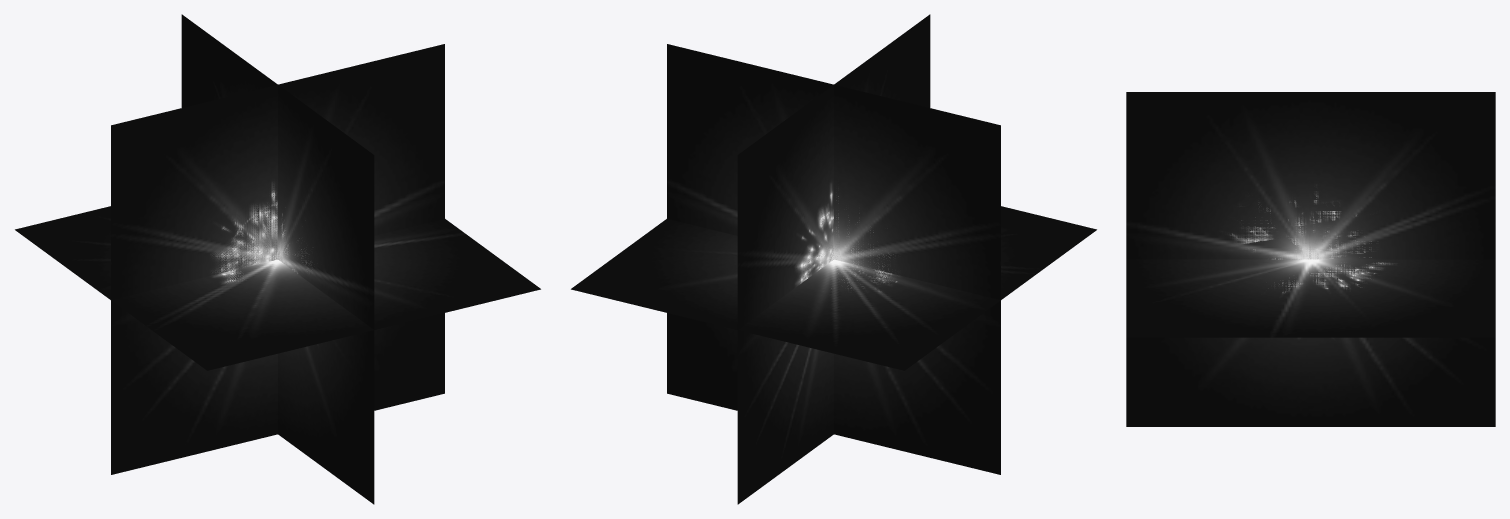
File: si_eoa_4110.glb
3 views of the same model, side by side, from view 1: azimuth 30°, elevation 25°; view 2: azimuth 150°, elevation 25°; view 3: azimuth 270°, elevation 25° (orthographic). The views are drawn at different scales.
Visible parts, largest first — view 1: layer_00_si_est_0000, layer_02_si_est_0201, layer_04_si_est_0403; view 2: layer_00_si_est_0000, layer_02_si_est_0201; view 3: layer_00_si_est_0000, layer_02_si_est_0201.
Boxes of the visible parts, left/top/right/bottom form: layer_00_si_est_0000: left=15, top=14, right=540, bottom=504; layer_02_si_est_0201: left=210, top=180, right=310, bottom=284; layer_04_si_est_0403: left=242, top=207, right=277, bottom=267; layer_00_si_est_0000: left=571, top=14, right=1096, bottom=504; layer_02_si_est_0201: left=794, top=180, right=905, bottom=294; layer_00_si_est_0000: left=1126, top=92, right=1495, bottom=426; layer_02_si_est_0201: left=1222, top=184, right=1397, bottom=338.
Bounding box in the file's own units: 48 × 48 × 48.
Materials: 5 (5 with a texture image).
